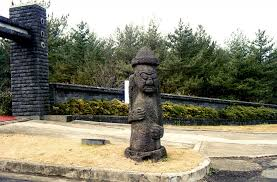Stone Statue: (111, 41, 172, 167)
